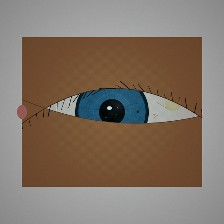pinguecula_lesion: (156, 91, 190, 118)
